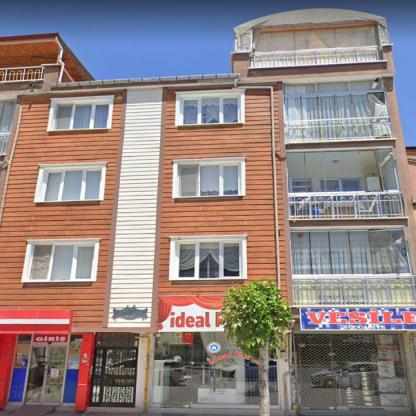door: (91, 334, 135, 406), (24, 344, 66, 403)
window: (292, 229, 415, 302), (286, 149, 402, 216), (283, 80, 381, 140), (254, 22, 378, 68), (27, 243, 95, 279), (178, 242, 241, 277), (180, 164, 240, 197), (43, 170, 103, 200), (51, 102, 110, 130), (183, 96, 241, 124), (1, 102, 16, 153)
